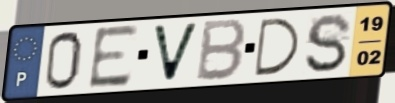0: (43, 29, 86, 91)
B: (193, 17, 250, 83)
D: (252, 16, 303, 79)
E: (86, 22, 141, 91)
S: (303, 12, 355, 75)
V: (150, 21, 202, 84)
